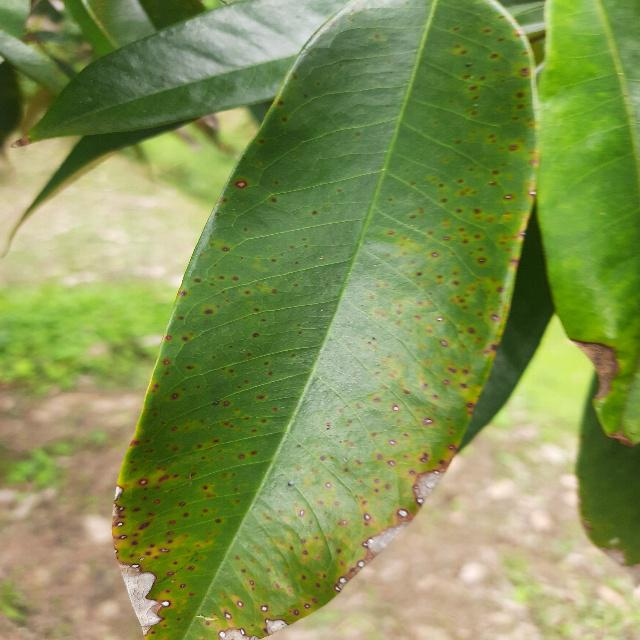Leaf Spot: (103, 0, 547, 639)
